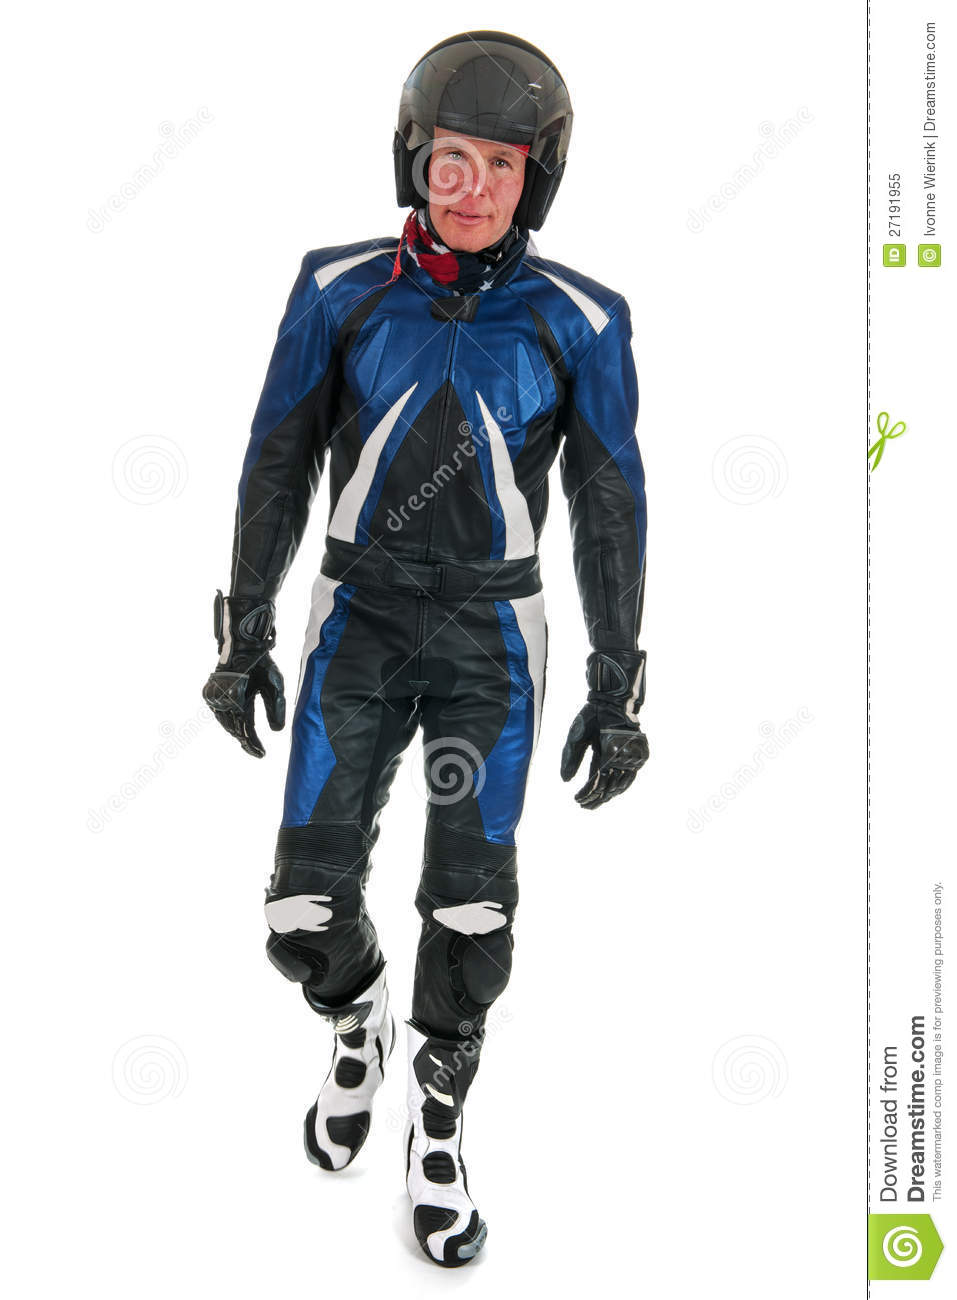helmet: (394, 21, 576, 241)
